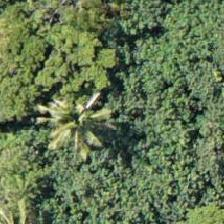coconut_tree: (36, 54, 126, 144)
